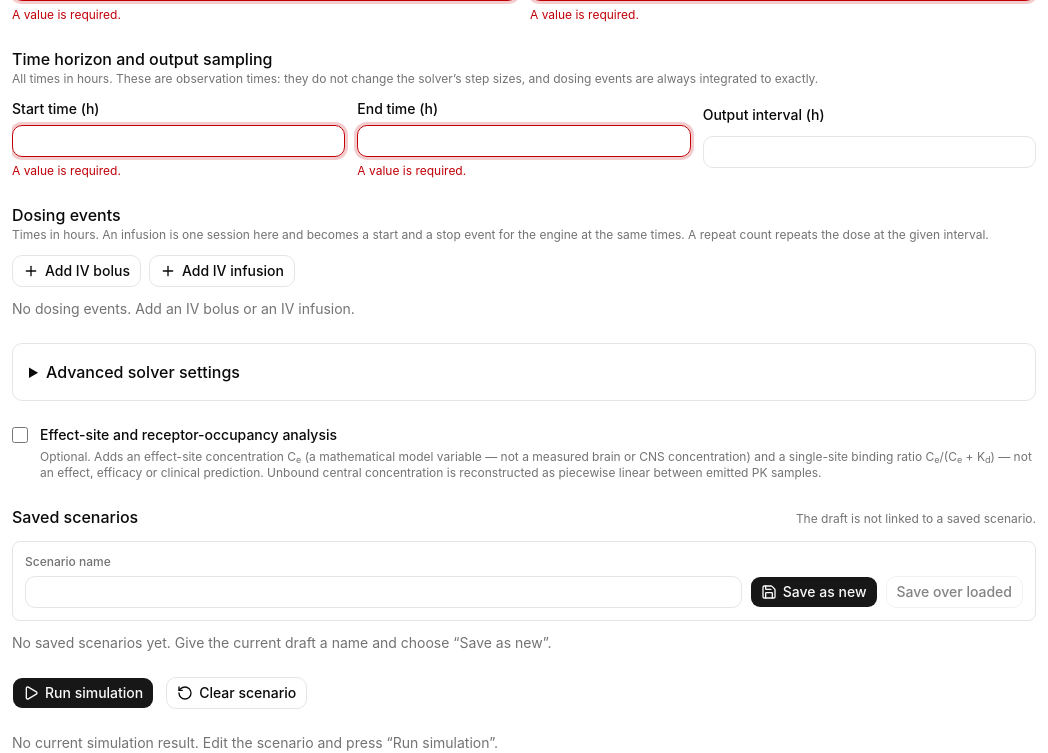
it: effect-site editor › reveals the parameter controls when enabled and keeps entered values when disabled
The image size is (1048, 753).
(page scrolled)
Click the checkbox with test id "effect-site-enabled" at (20, 435), box [12,427,28,443]
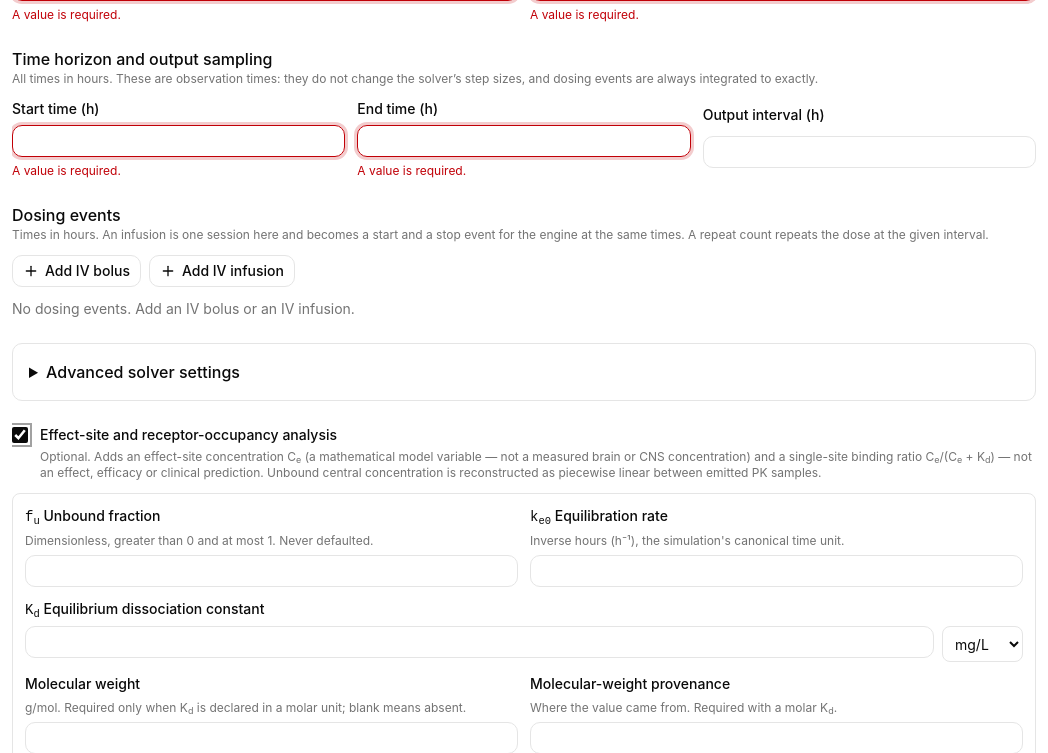
Type "0.5" into the field with test id "effect-site-fu" at (272, 571), box [25,555,518,587]
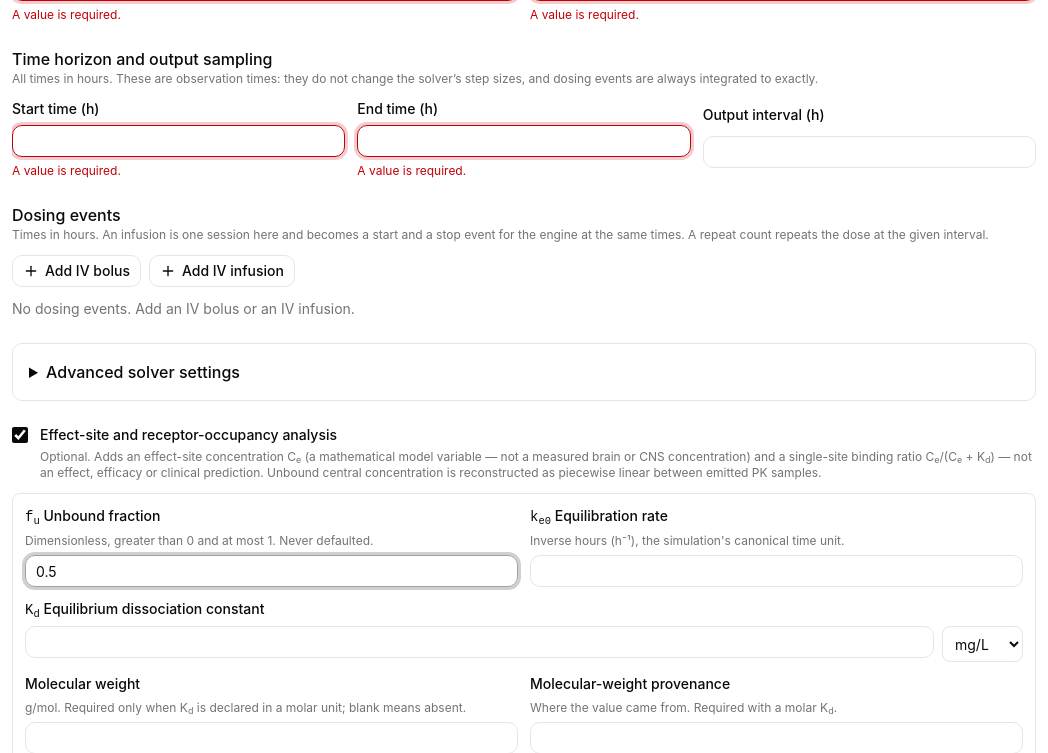
Click the checkbox with test id "effect-site-enabled" at (20, 435), box [12,427,28,443]
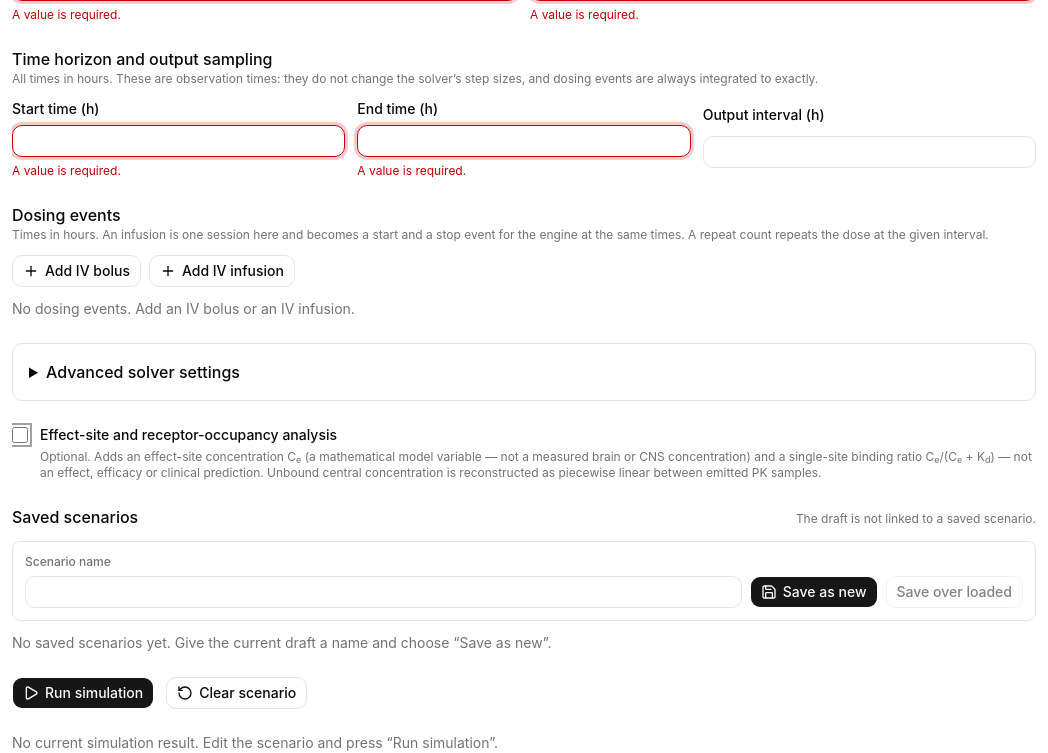
Result: the label with test id "effect-site-fu" is gone
Click the checkbox with test id "effect-site-enabled" at (20, 435), box [12,427,28,443]
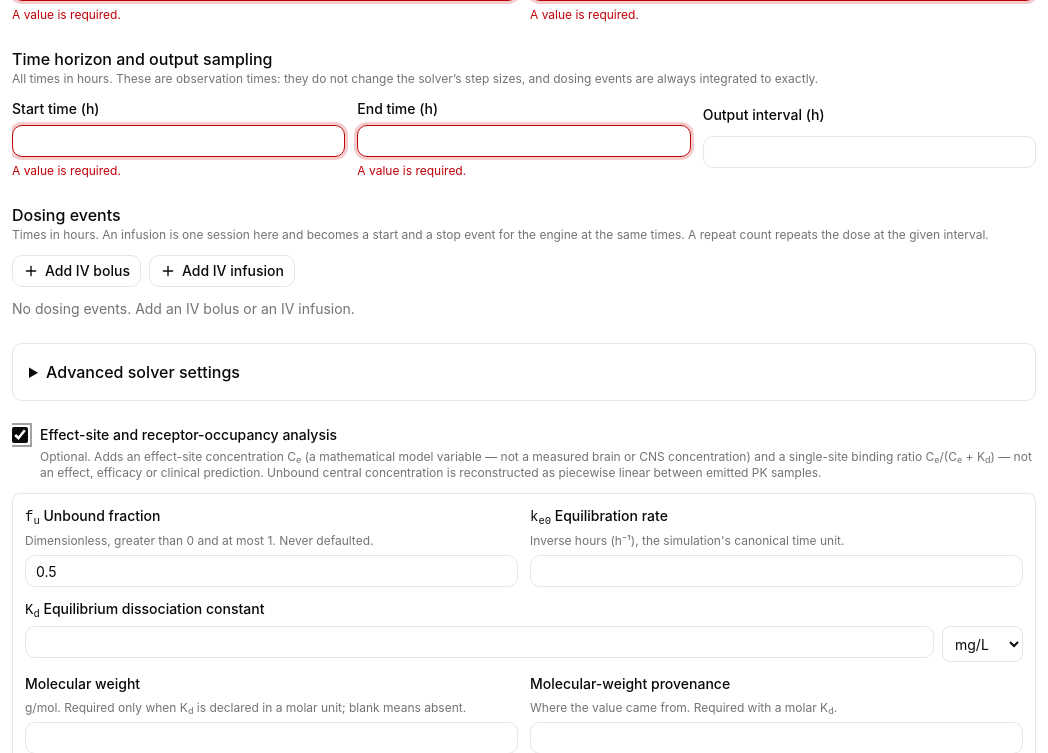
Result: the field with test id "effect-site-fu" holds "0.5" at [25,555,518,587]
